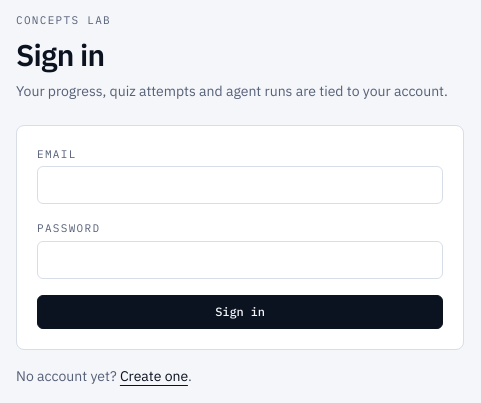
Test: LoginPage › routes to the second-factor screen on mfa_required
The image size is (481, 403).
In the field labelled "Email": x=240, y=185 x1=37 y1=166 x2=443 y2=204, type "learner@example.test"
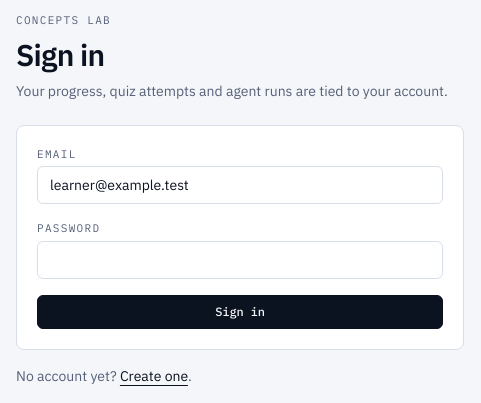
In the password field labelled "Password": x=240, y=260 x1=37 y1=240 x2=443 y2=278, type "correct horse battery staple"
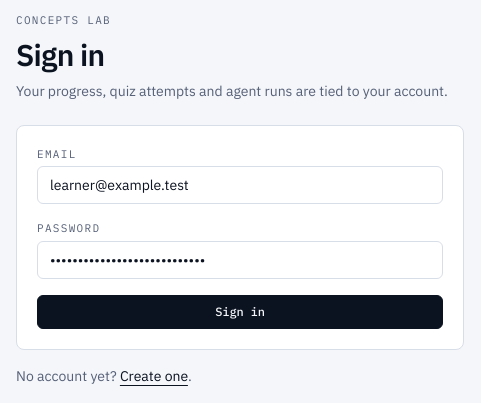
Click the button "Sign in": x=240, y=312 x1=37 y1=294 x2=443 y2=328
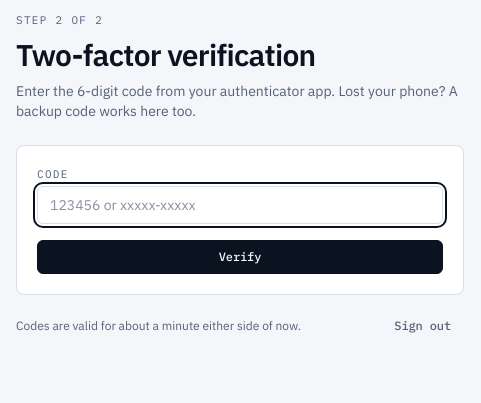
Check: the heading "Two-factor verification" is shown, box x1=16 y1=34 x2=316 y2=74
